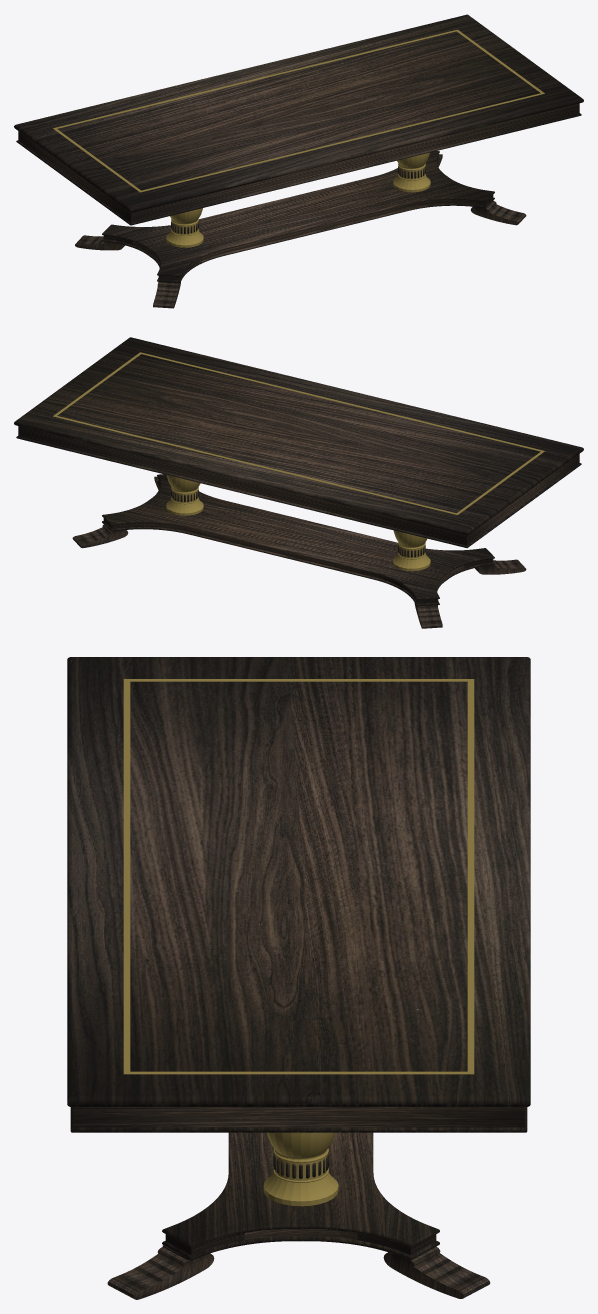
The model's file is table_basse.dae.
The picture shows the model from 3 angles, top to bottom: view 1: azimuth 30°, elevation 25°; view 2: azimuth 150°, elevation 25°; view 3: azimuth 270°, elevation 25°; orthographic projection. The views are drawn at different scales.
Visible parts, largest first — view 1: Group_009, Table_-_Di, pedastal_0, pedastal_1, Group_007, Group_003, Group_001; view 2: Group_009, Table_-_Di, pedastal_1, pedastal_0, Group_005, Group_003, Group_001; view 3: Group_009, Table_-_Di, pedastal_1, Group_007, Group_005.
Boxes of the visible parts, x1,y1,x2,y2 form: Group_009: (14, 14, 583, 225); Table_-_Di: (102, 151, 494, 282); pedastal_0: (166, 208, 203, 247); pedastal_1: (393, 152, 430, 192); Group_007: (470, 200, 526, 225); Group_003: (153, 281, 180, 308); Group_001: (75, 235, 124, 250); Group_009: (14, 337, 583, 548); Table_-_Di: (102, 474, 494, 606); pedastal_1: (166, 475, 203, 515); pedastal_0: (393, 530, 430, 571); Group_005: (72, 524, 128, 548); Group_003: (475, 559, 526, 574); Group_001: (414, 603, 442, 628); Group_009: (67, 657, 530, 1132); Table_-_Di: (162, 1132, 439, 1260); pedastal_1: (263, 1132, 338, 1206); Group_007: (107, 1245, 214, 1299); Group_005: (383, 1246, 490, 1298).
Size of the model in its own units: 2.7 by 1.19 by 0.6927.
Materials: 3 (1 with a texture image).
